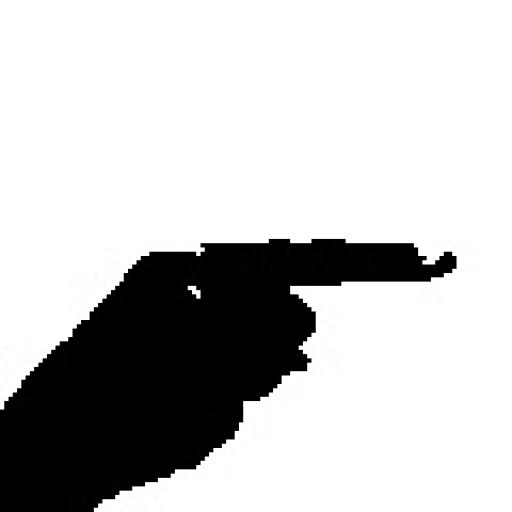index_right: (0, 235, 458, 434)
